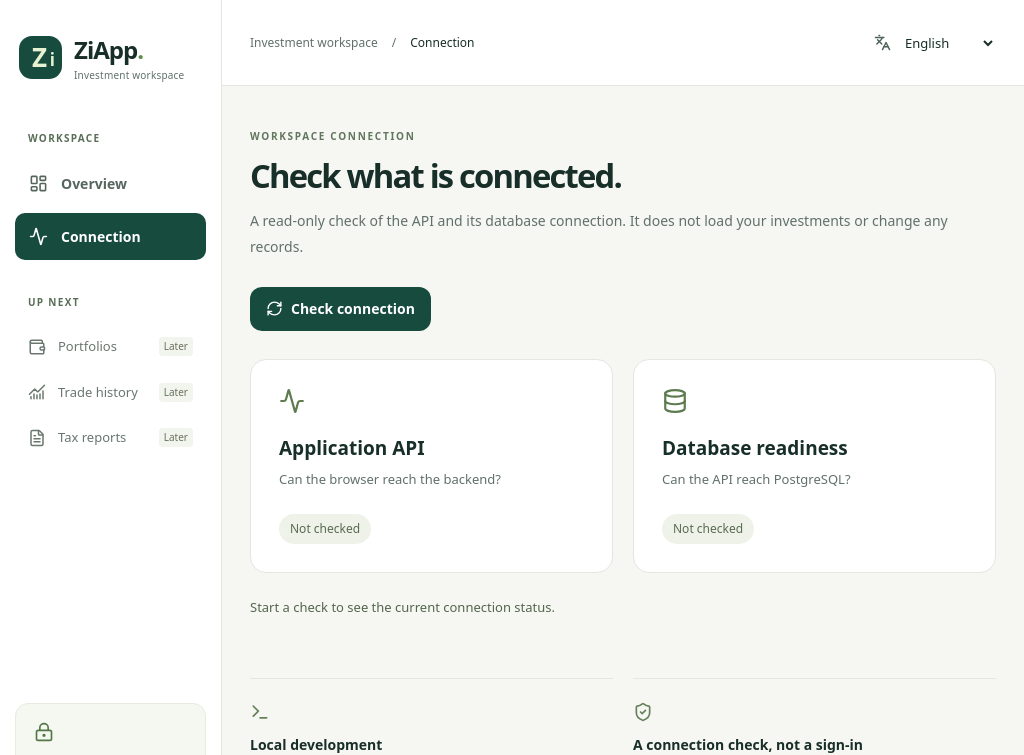
it: app foundation › shows an offline state and can retry successfully
The width and height of the screenshot is (1024, 755).
Click the button "Check connection".
click(340, 309)  # box left=250, top=287, right=431, bottom=331
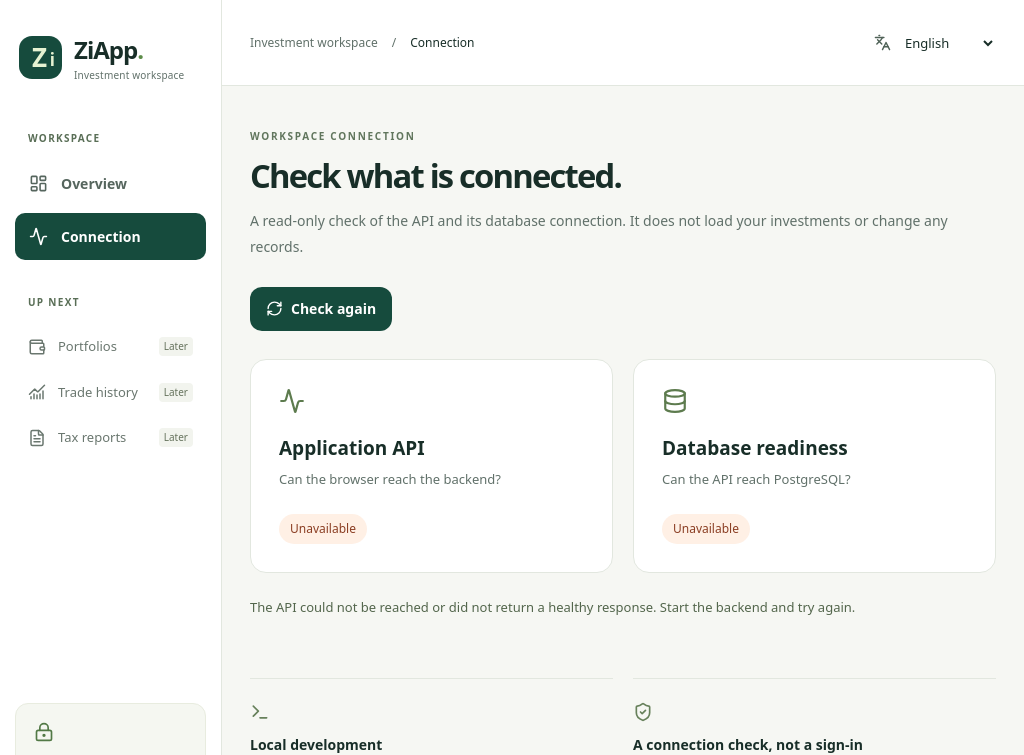
Expected: the message shows "The API could not be reached", left=250, top=598, right=855, bottom=616
Click the button "Check again".
click(321, 309)  # box left=250, top=287, right=392, bottom=331
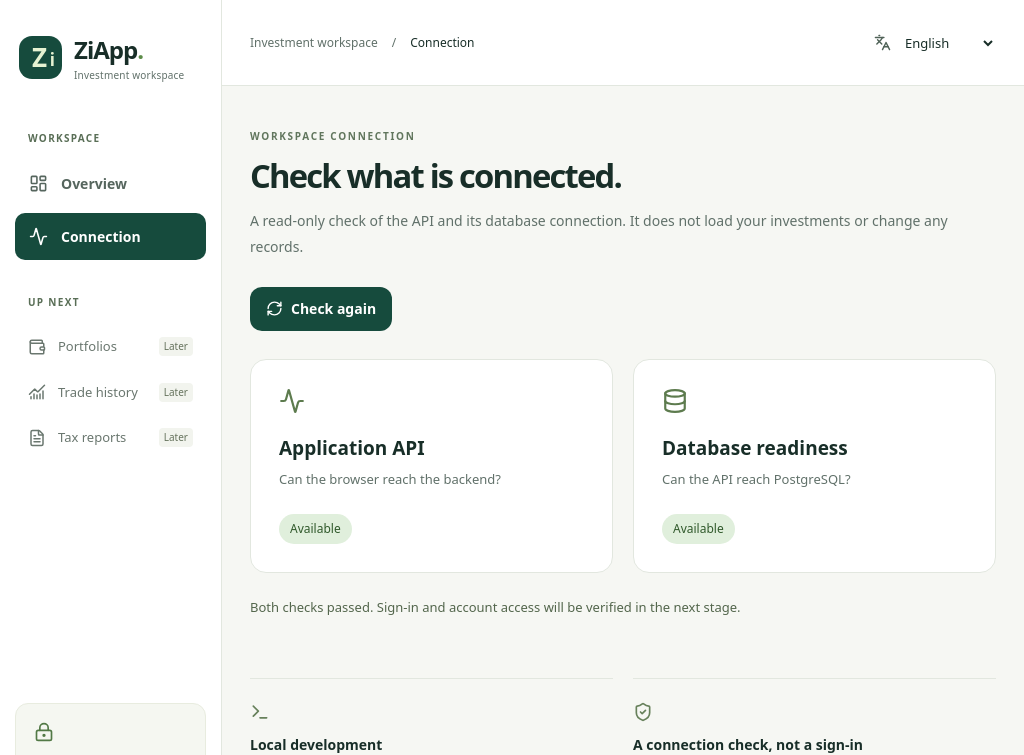
Expected: the message shows "Both checks passed", left=250, top=598, right=740, bottom=616
